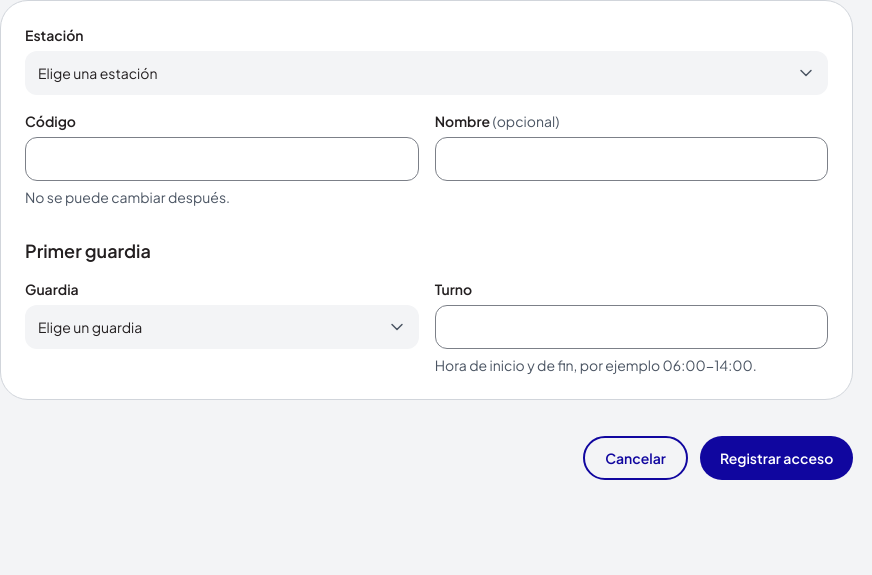
Test: FormularioAcceso › muestra con role="alert" el error que devuelve el backend
Select "E3 · Trébol" in the dropdown labelled "Estación". click: [427, 73]
box: [25,51,828,95]
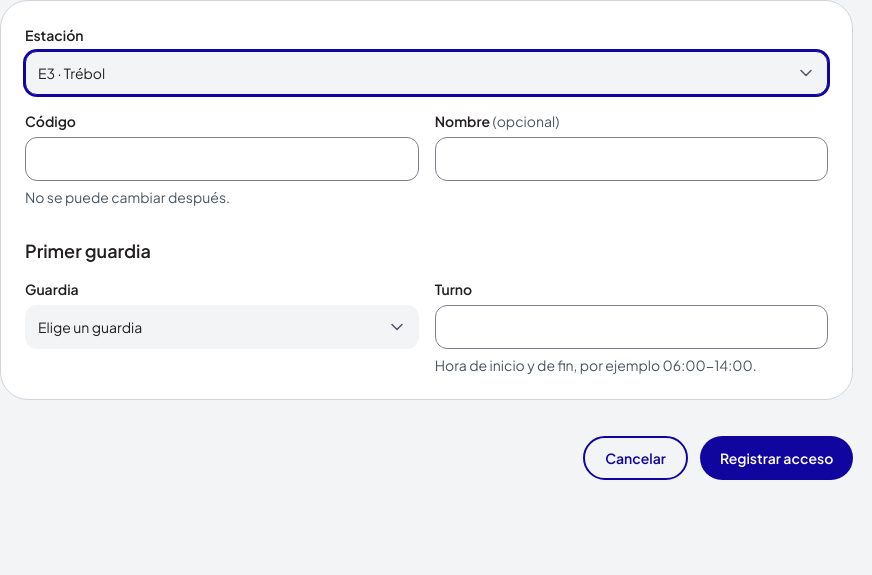
Type "C" into the field labelled "Código". click: [222, 159]
box: [25,137,419,181]
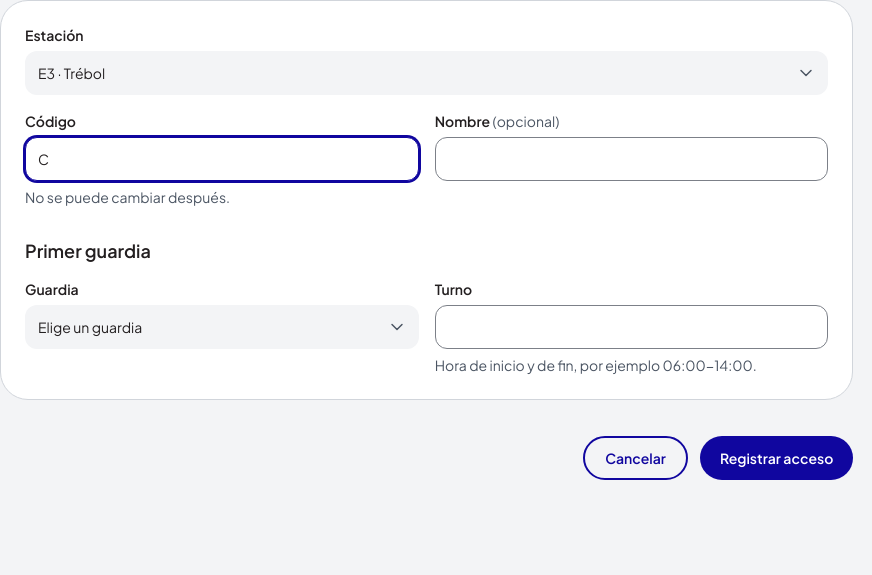
Select "Ana Pérez · 1234 56789 0101" in the dropdown labelled "Guardia". click: [222, 327]
box: [25,305,419,349]
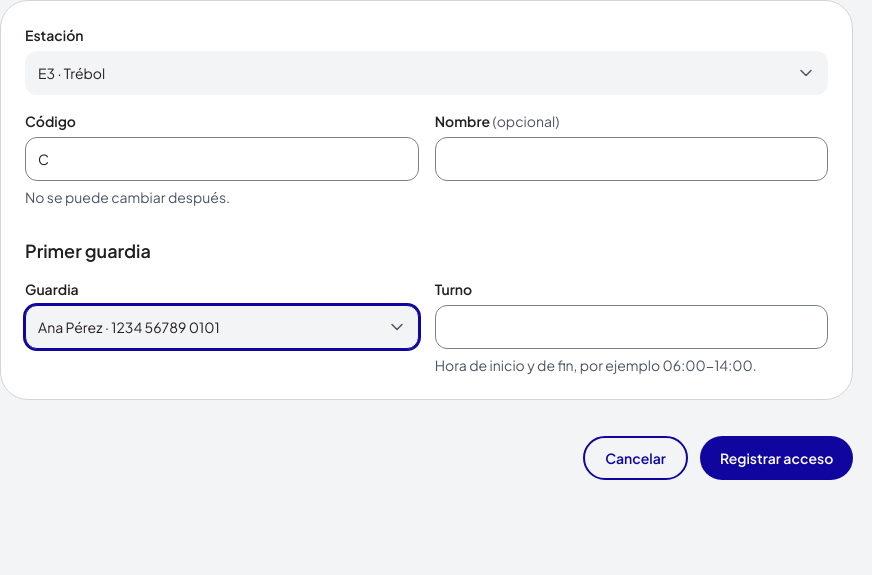
Type "06:00-14:00" into the field labelled "Turno". click: [632, 327]
box: [435,305,828,349]
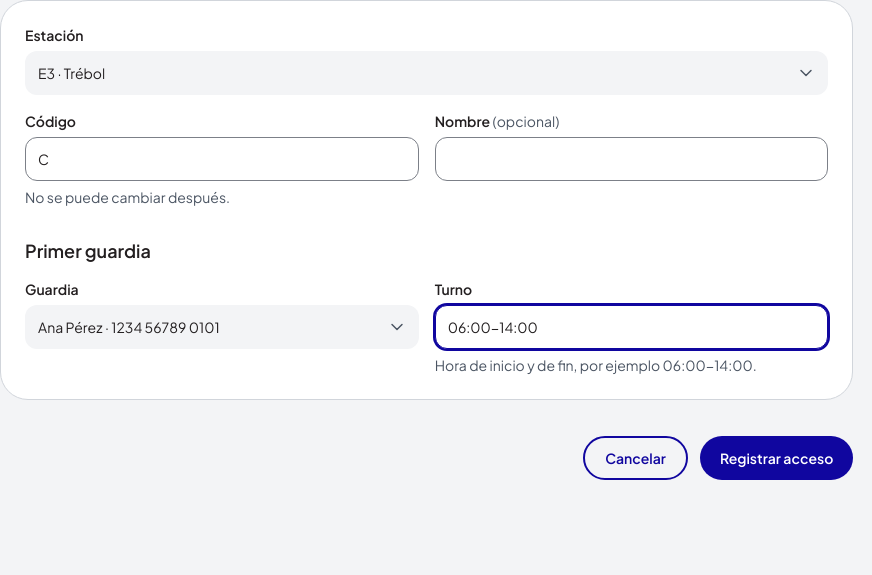
Click the button "Registrar acceso". click: [777, 458]
box: [700,436,853,480]
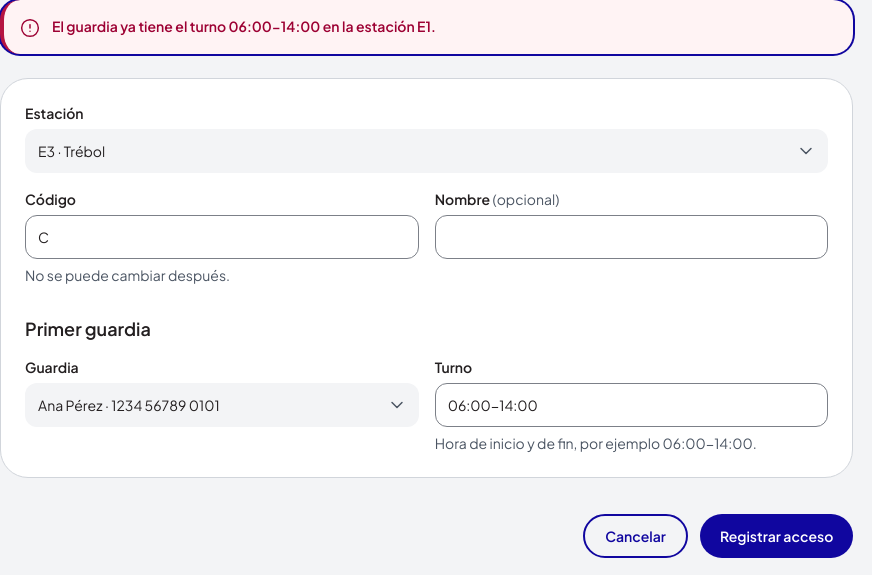
Expected: the message reads "El guardia ya tiene el turno 06:00-14:00 en la estación E1.", [52,17,436,35]
